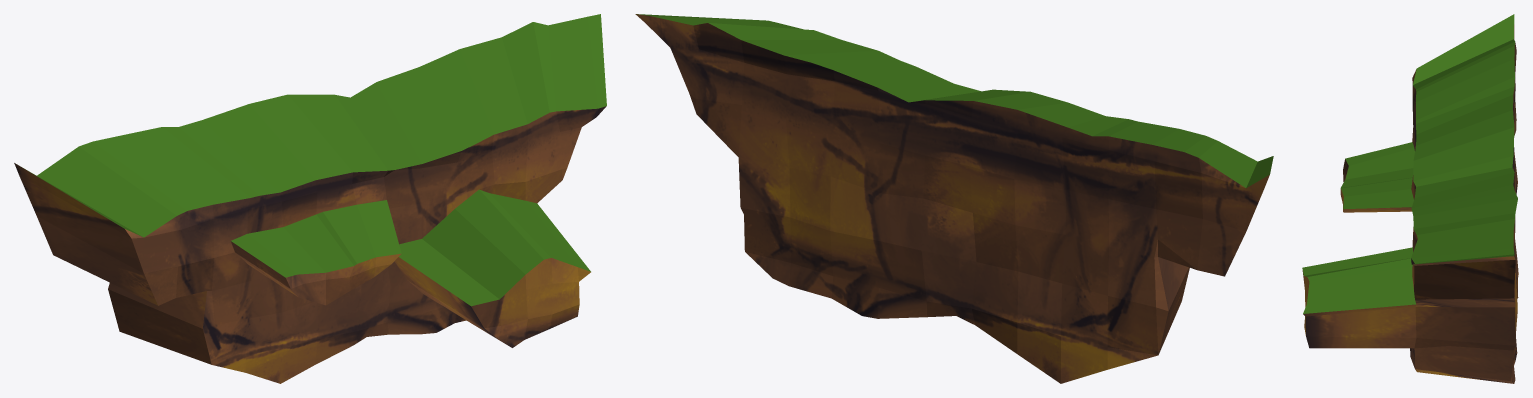
File: sali81.obj
3 views of the same model, side by side, from view 1: azimuth 30°, elevation 25°; view 2: azimuth 150°, elevation 25°; view 3: azimuth 270°, elevation 25° (orthographic). The views are drawn at different scales.
Visible parts, largest first — view 1: Plane.048_Plane.052; view 2: Plane.048_Plane.052; view 3: Plane.048_Plane.052.
Part boxes in pixels (left/top/right/bottom): Plane.048_Plane.052: left=14, top=14, right=606, bottom=383; Plane.048_Plane.052: left=635, top=14, right=1273, bottom=383; Plane.048_Plane.052: left=1302, top=14, right=1518, bottom=383.
Bounding box in the file's own units: 270 × 111 × 101.
1 material, 1 textured.
